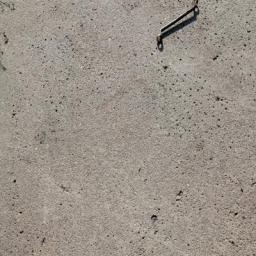FOD: (151, 1, 210, 53)
